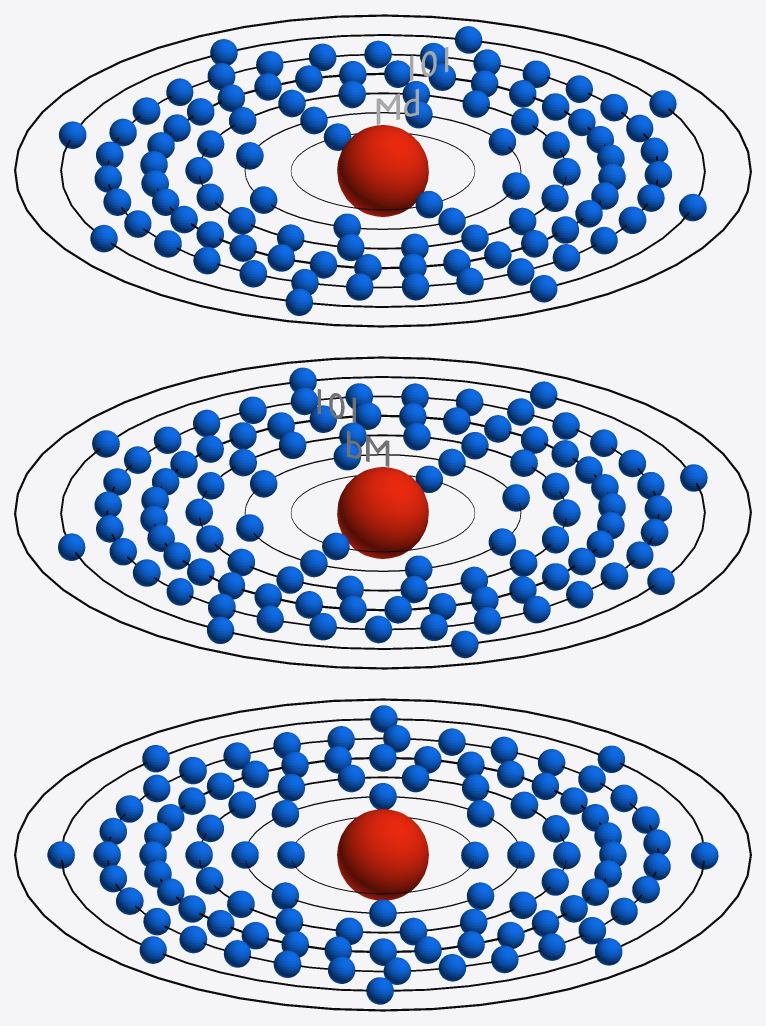
3 renders of one model, top to bottom at view 1: azimuth 30°, elevation 25°; view 2: azimuth 150°, elevation 25°; view 3: azimuth 270°, elevation 25°, orthographic.
Parts seen in each view (by area): view 1: Md4, Md5, Md3, Proton, Md6, n7, Md2, n6, n5, Md1, n3, n4 (+2 smaller); view 2: Md5, Md4, Md3, Proton, n7, Md6, Md2, n6, n5, Md1, n3, n4 (+2 smaller); view 3: Md5, Md4, Md3, Proton, Md2, Md6, n7, n6, n5, Md1, n3, n4 (+2 smaller).
Boxes of the visible parts, x1,y1,x2,y2 form: Md4: (140, 60, 625, 280); Md5: (94, 40, 671, 300); Md3: (185, 80, 580, 261); Proton: (337, 125, 428, 216); Md6: (58, 26, 706, 315); n7: (14, 14, 751, 327); Md2: (236, 101, 529, 238); n6: (60, 34, 705, 307); n5: (107, 53, 658, 288); Md1: (323, 123, 442, 218); n3: (199, 92, 566, 249); n4: (152, 72, 611, 269); Md5: (94, 383, 671, 643); Md4: (140, 402, 625, 623); Md3: (185, 422, 580, 603); Proton: (337, 467, 428, 558); n7: (14, 356, 751, 669); Md6: (58, 367, 707, 658); Md2: (236, 443, 529, 580); n6: (60, 376, 705, 649); n5: (106, 395, 659, 630); Md1: (322, 465, 442, 560); n3: (199, 434, 566, 591); n4: (153, 414, 613, 611); Md5: (93, 725, 670, 984); Md4: (139, 744, 626, 965); Md3: (185, 764, 580, 945); Proton: (337, 809, 428, 900); Md2: (231, 783, 534, 926); Md6: (47, 705, 718, 1004); n7: (14, 698, 751, 1011); n6: (61, 718, 704, 991); n5: (107, 737, 659, 972); Md1: (277, 841, 488, 869); n3: (199, 776, 566, 933); n4: (153, 757, 612, 952).
Size of the model in its own units: 802 by 180 by 802.
